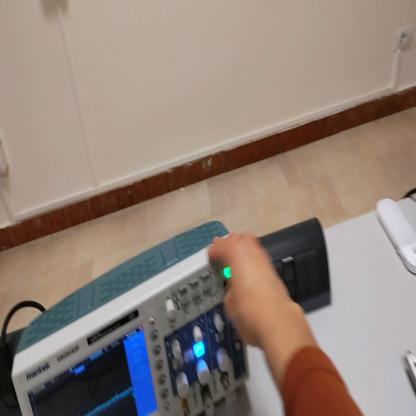hand: (207, 234, 295, 348)
oscilloscope: (8, 220, 248, 416)
socket: (1, 327, 24, 416)
